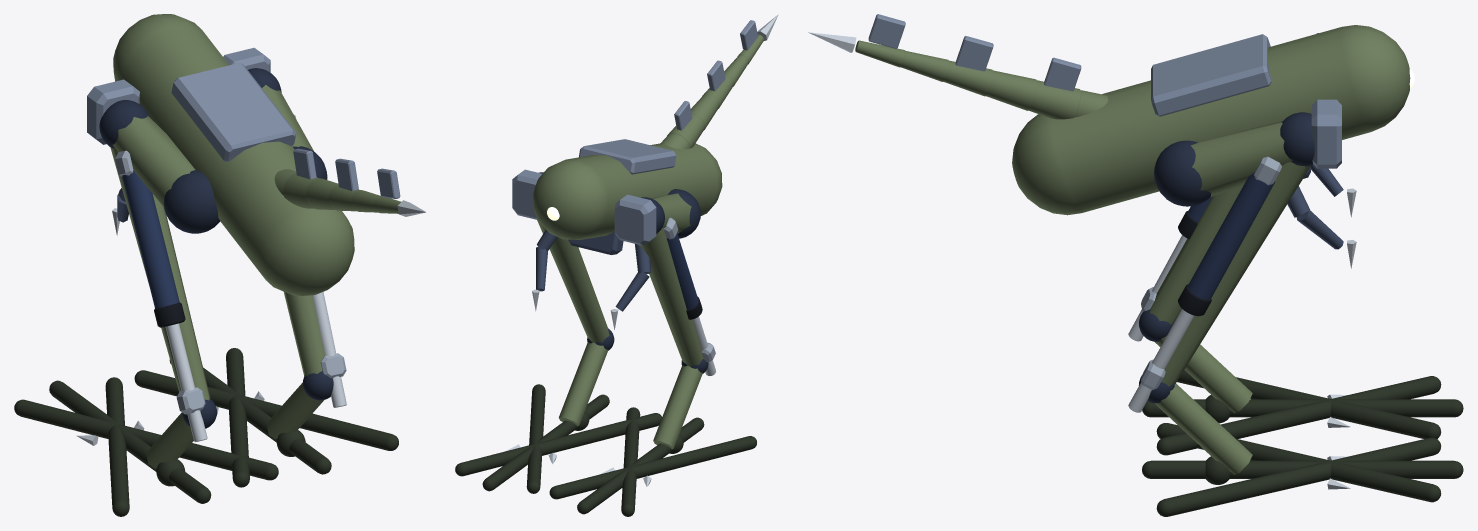
The model's file is enemy_leaper.glb.
The picture shows the model from 3 angles, left to right: view 1: azimuth 30°, elevation 25°; view 2: azimuth 150°, elevation 25°; view 3: azimuth 270°, elevation 25°; orthographic projection. The views are drawn at different scales.
Parts seen in each view (by area): view 1: leaper_torso, leaper_back_plate, leaper_toe_l2, leaper_thigh_l, leaper_calf_ram_l_body, leaper_toe_r2, leaper_shin_l, leaper_hip_l, leaper_toe_l1, leaper_toe_l0, leaper_toe_r0, leaper_shin_r (+20 smaller); view 2: leaper_torso, leaper_shin_l, leaper_shin_r, leaper_toe_l0, leaper_toe_r0, leaper_back_plate, leaper_meta_l, leaper_meta_r, leaper_knee_cap_l, leaper_toe_l1, leaper_toe_r1, leaper_toe_r2 (+16 smaller); view 3: leaper_torso, leaper_back_plate, leaper_shin_r, leaper_toe_r2, leaper_thigh_r, leaper_toe_l2, leaper_toe_r1, leaper_calf_ram_r_body, leaper_shin_l, leaper_toe_r0, leaper_toe_l0, leaper_meta_r (+15 smaller).
Part boxes in pixels (x1,y1,x2,y2): leaper_torso: [113, 14, 354, 295]; leaper_back_plate: [171, 62, 296, 161]; leaper_toe_l2: [14, 399, 278, 480]; leaper_thigh_l: [112, 116, 195, 206]; leaper_calf_ram_l_body: [122, 170, 179, 308]; leaper_toe_r2: [134, 370, 398, 450]; leaper_shin_l: [110, 147, 210, 400]; leaper_hip_l: [163, 170, 220, 233]; leaper_toe_l1: [49, 380, 211, 503]; leaper_toe_l0: [105, 377, 129, 516]; leaper_toe_r0: [226, 348, 249, 487]; leaper_shin_r: [284, 292, 325, 376]; leaper_torso: [532, 143, 722, 239]; leaper_shin_l: [638, 228, 703, 366]; leaper_shin_r: [537, 220, 609, 342]; leaper_toe_l0: [549, 436, 756, 499]; leaper_toe_r0: [455, 413, 661, 476]; leaper_back_plate: [579, 139, 676, 174]; leaper_meta_l: [653, 365, 702, 449]; leaper_meta_r: [558, 342, 608, 426]; leaper_knee_cap_l: [614, 194, 656, 245]; leaper_toe_l1: [577, 417, 704, 514]; leaper_toe_r1: [482, 394, 609, 491]; leaper_toe_r2: [526, 384, 545, 493]; leaper_torso: [1012, 25, 1410, 215]; leaper_back_plate: [1151, 34, 1271, 116]; leaper_shin_r: [1161, 162, 1310, 386]; leaper_toe_r2: [1156, 437, 1441, 516]; leaper_thigh_r: [1190, 121, 1292, 196]; leaper_toe_l2: [1156, 376, 1441, 455]; leaper_toe_r1: [1142, 460, 1463, 478]; leaper_calf_ram_r_body: [1187, 172, 1274, 299]; leaper_shin_l: [1150, 186, 1242, 324]; leaper_toe_r0: [1156, 423, 1441, 502]; leaper_toe_l0: [1177, 370, 1441, 438]; leaper_meta_r: [1154, 383, 1252, 474].
Size of the model in its own units: 1.13 by 1.59 by 2.16.
